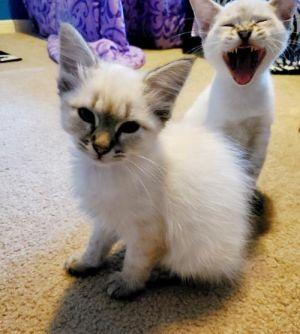siamese: (51, 23, 201, 178)
